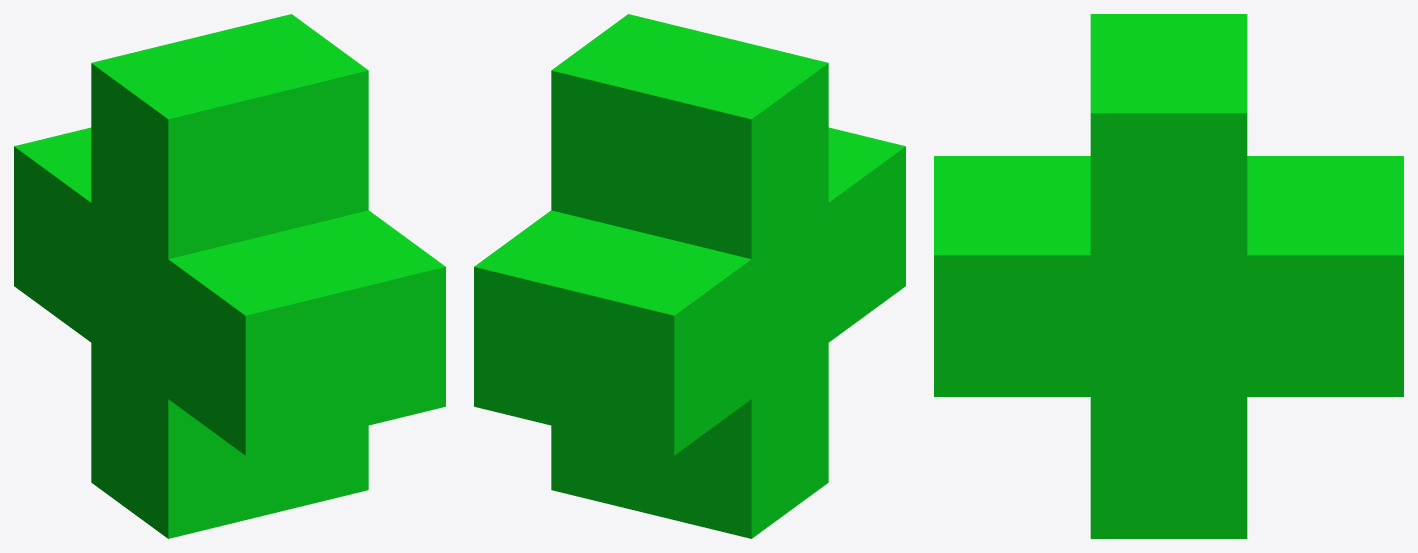
File: Cruz.fbx
3 renders of one model, left to right at view 1: azimuth 30°, elevation 25°; view 2: azimuth 150°, elevation 25°; view 3: azimuth 270°, elevation 25°, orthographic.
Visible parts, largest first — view 1: Cruz; view 2: Cruz; view 3: Cruz.
Boxes of the visible parts, x1,y1,x2,y2 form: Cruz: [14, 14, 445, 538]; Cruz: [474, 14, 905, 538]; Cruz: [934, 14, 1403, 538].
Bounding box in the file's own units: 100 × 200 × 200.
